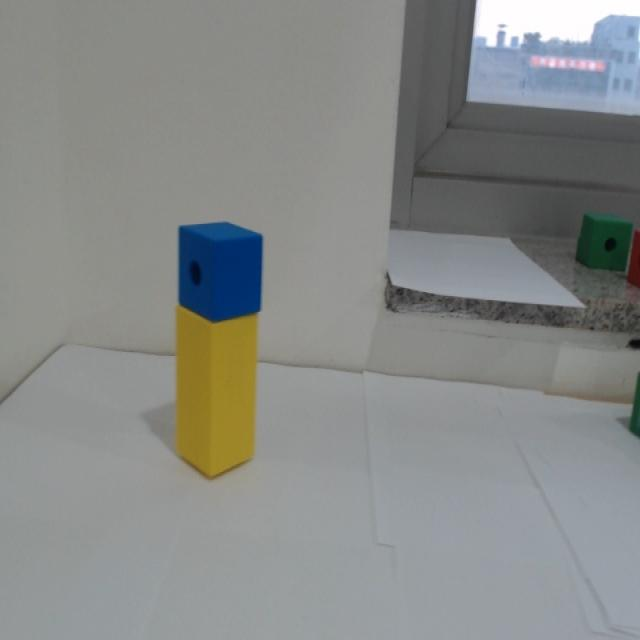cube: (177, 220, 264, 324)
